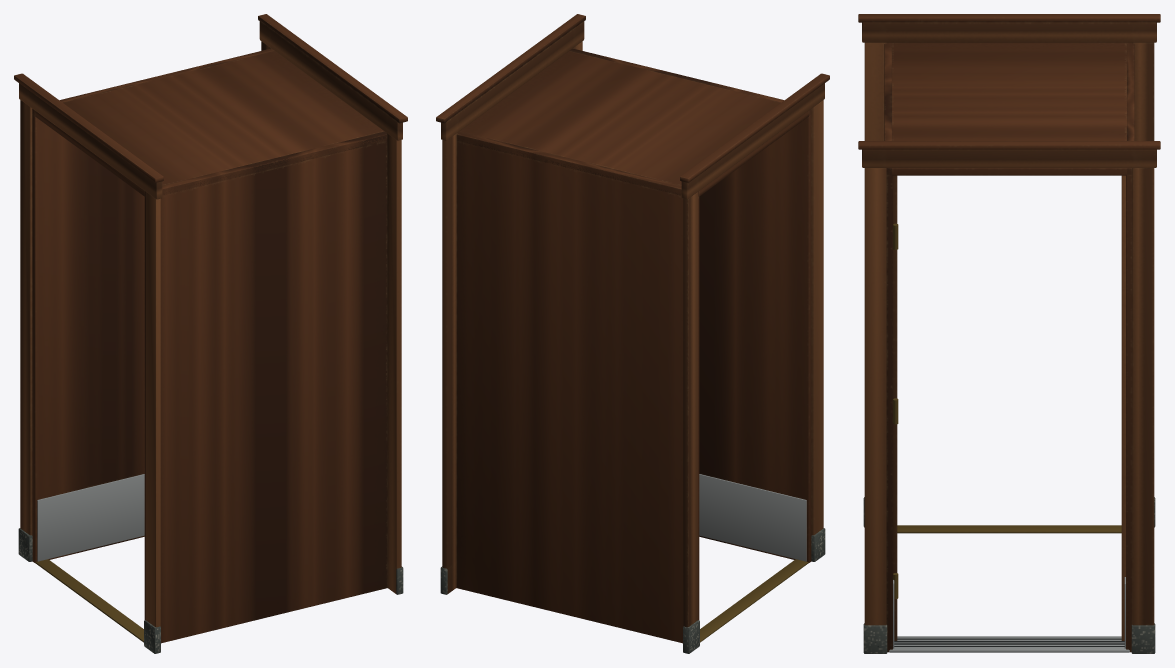
File: CTCC_ENV_StaffCrossDoorFrame.fbx
The picture shows the model from 3 angles, left to right: view 1: azimuth 30°, elevation 25°; view 2: azimuth 150°, elevation 25°; view 3: azimuth 270°, elevation 25°; orthographic projection. The views are drawn at different scales.
Parts seen in each view (by area): view 1: CTCC_ENV_StaffCrossDoorFrame_LOD0; view 2: CTCC_ENV_StaffCrossDoorFrame_LOD0; view 3: CTCC_ENV_StaffCrossDoorFrame_LOD0.
Boxes of the visible parts, box(x1,y1,x2,y2) form: CTCC_ENV_StaffCrossDoorFrame_LOD0: box(14, 14, 407, 653); CTCC_ENV_StaffCrossDoorFrame_LOD0: box(436, 14, 829, 653); CTCC_ENV_StaffCrossDoorFrame_LOD0: box(858, 14, 1160, 653).
Size of what is drawn, in the model's own units: 1.29 by 2.34 by 1.25.
